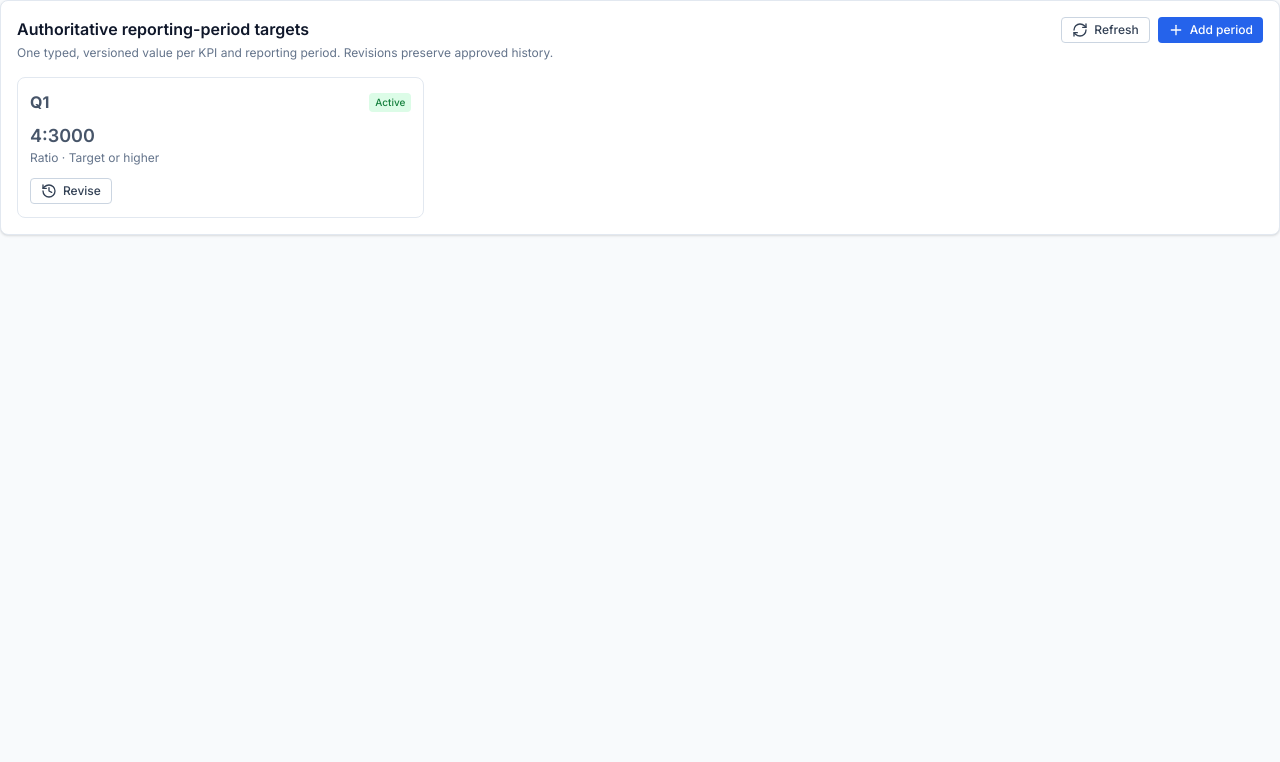
Scenario: PerformancePeriodTargetEditor › edits governed ratio labels and sends the definition row version
The width and height of the screenshot is (1280, 762).
Later steps or results of the test are not shown.
Click the button "Revise".
click(71, 191)  # box [30,178,112,204]
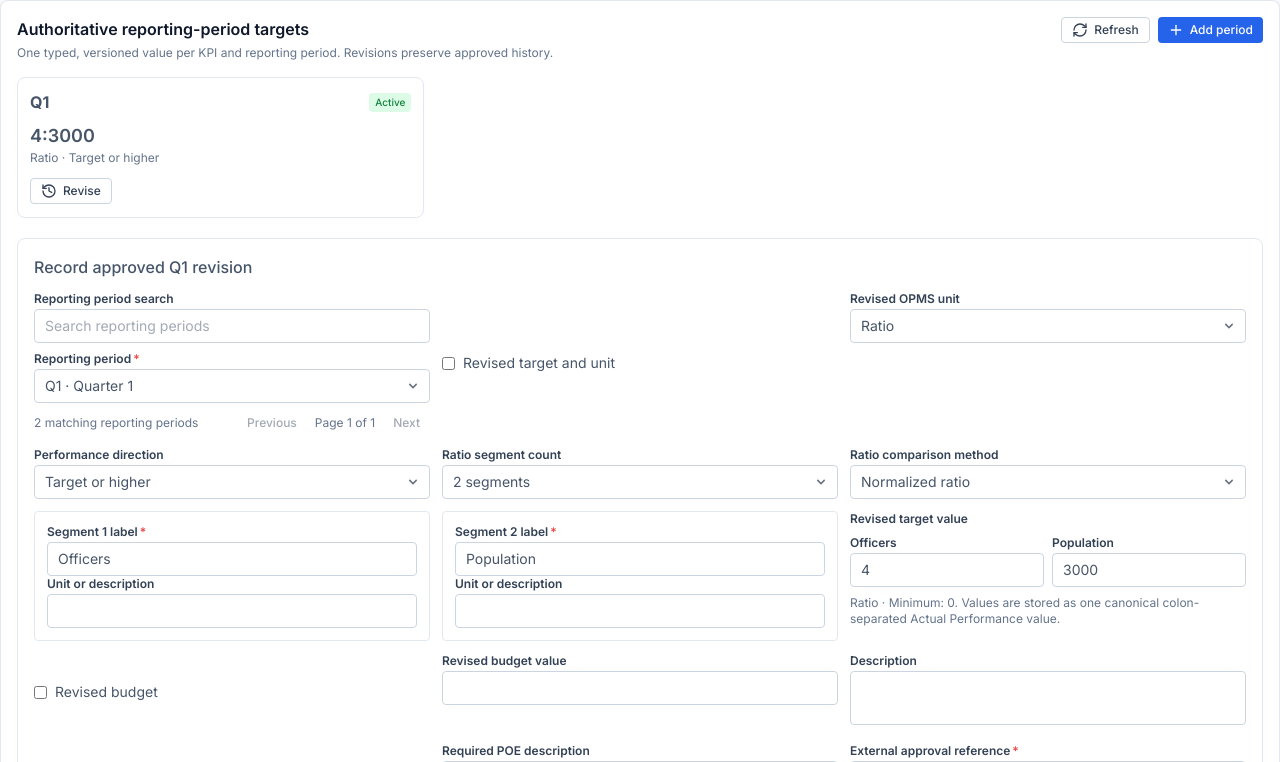
Expected: the number field named "Revised target value Officers" holds "4", [850,553,1044,587]
Expected: the number field named "Revised target value Population" holds "3000", [1052,553,1246,587]
